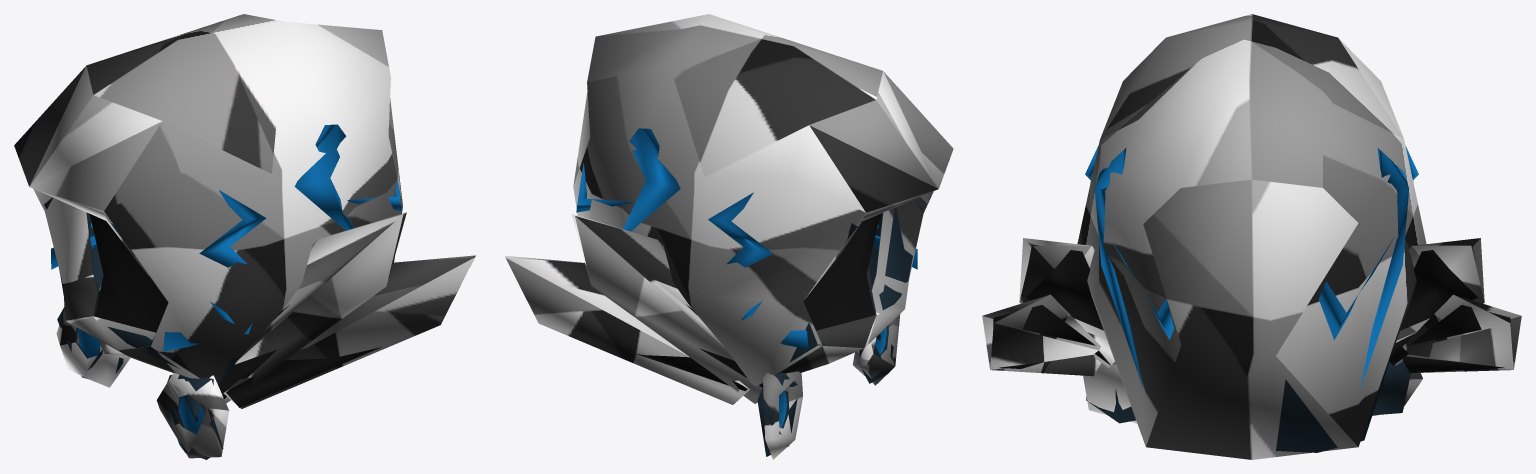
Rendered from ElectraLOW.fbx.
3 renders of one model, left to right at view 1: azimuth 30°, elevation 25°; view 2: azimuth 150°, elevation 25°; view 3: azimuth 270°, elevation 25°, orthographic. The views are drawn at different scales.
Visible parts, largest first — view 1: Electra; view 2: Electra; view 3: Electra.
Boxes of the visible parts, bbox=[...] form: Electra: bbox=[14, 14, 475, 459]; Electra: bbox=[504, 14, 953, 459]; Electra: bbox=[982, 14, 1521, 459].
Size of the model in its own units: 149 by 147 by 168.
